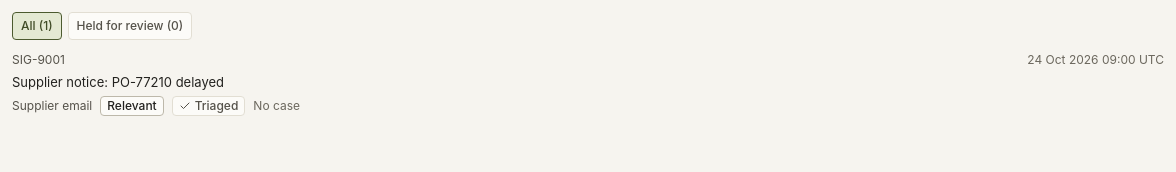
RecentSignals (Phase 2 handling) › says so when nothing is held for review
Click the button "Held for review (0)".
click(130, 26)  # box [68,12,192,40]
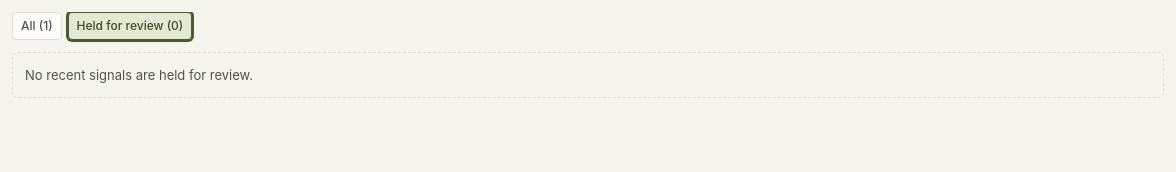
Now the text "No recent signals are held for review." is shown, box [12,52,1164,98]
